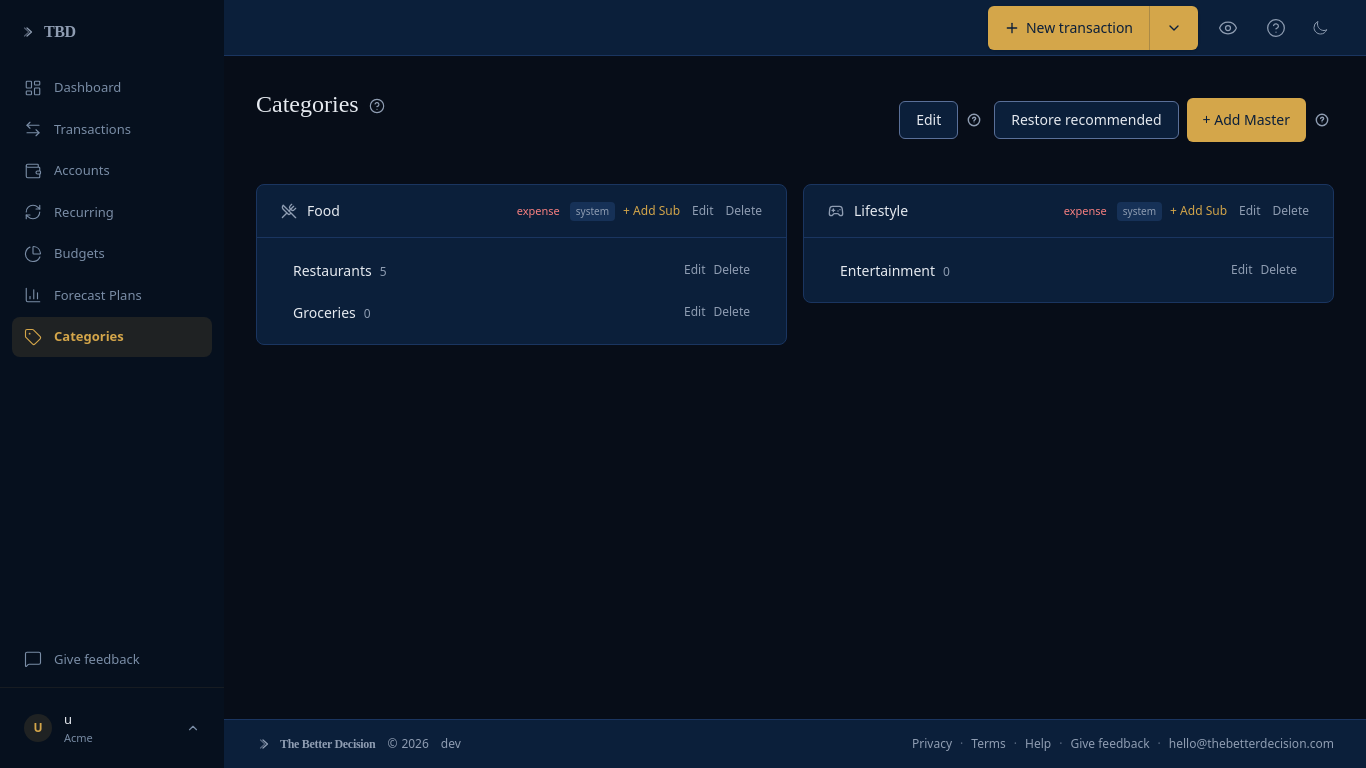
Test: CategoriesPage -C2 Edit mode + batch select › Edit toggle shows checkboxes on subcategory rows
Expected: the text "Restaurants" is shown, left=293, top=261, right=372, bottom=280
Click the button with test id "categories-edit-toggle": [929, 120] box left=899, top=101, right=958, bottom=139
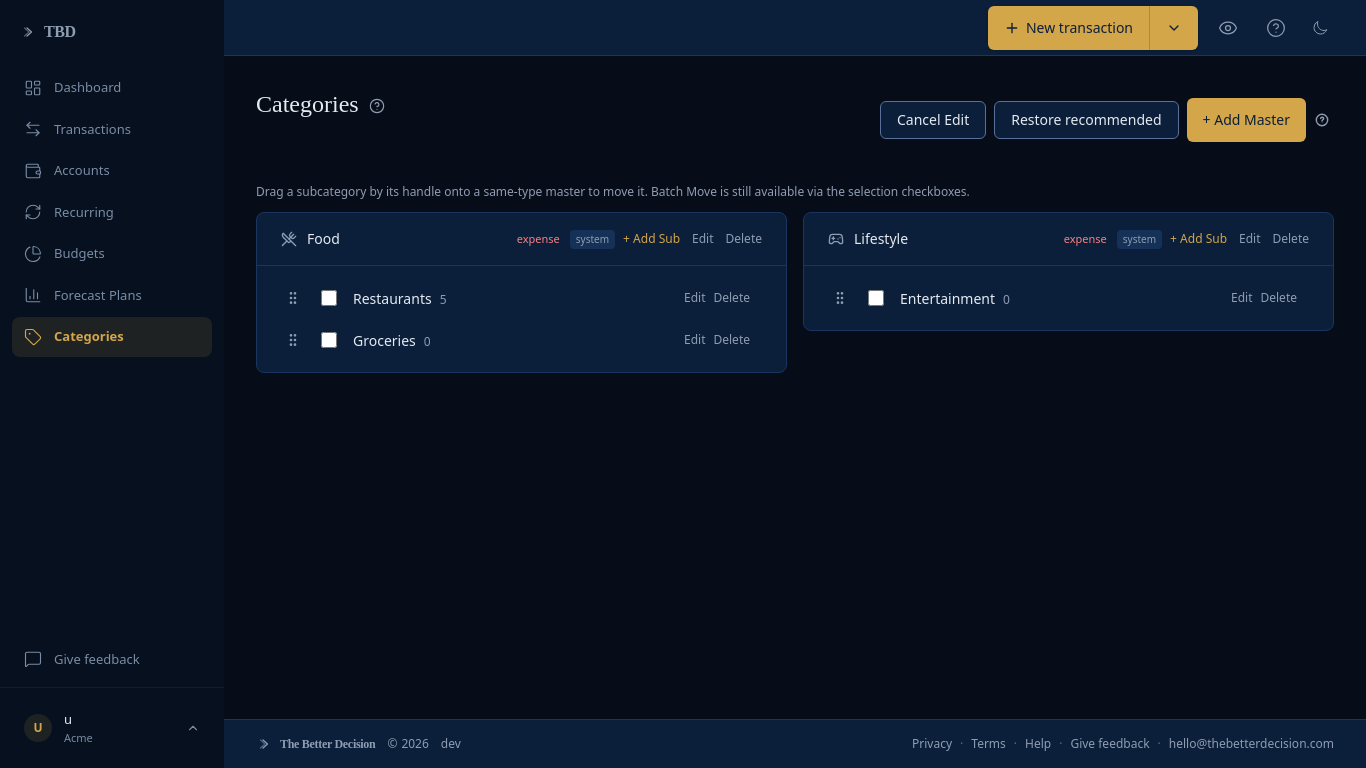
Expected: the checkbox with test id "sub-checkbox-101" is shown, left=321, top=290, right=337, bottom=306
Expected: the checkbox with test id "sub-checkbox-102" is shown, left=321, top=332, right=337, bottom=348
Expected: the checkbox with test id "sub-checkbox-201" is shown, left=868, top=290, right=884, bottom=306
